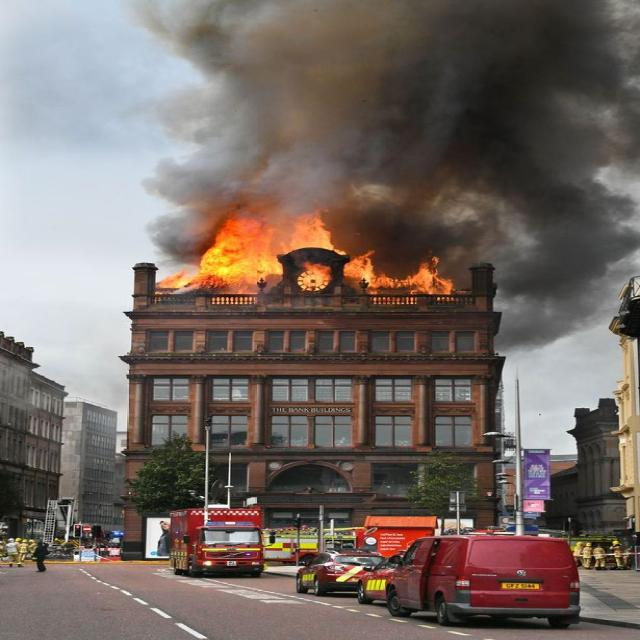fire: (161, 238, 458, 300)
smoke: (159, 0, 640, 206), (464, 210, 638, 344)
